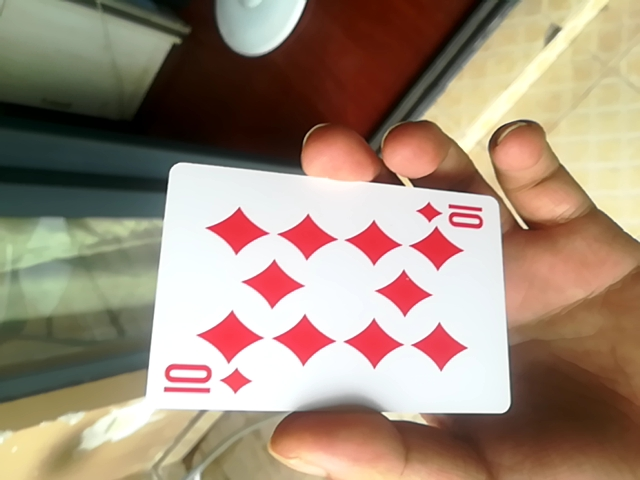fk 10: (141, 158, 507, 424)
